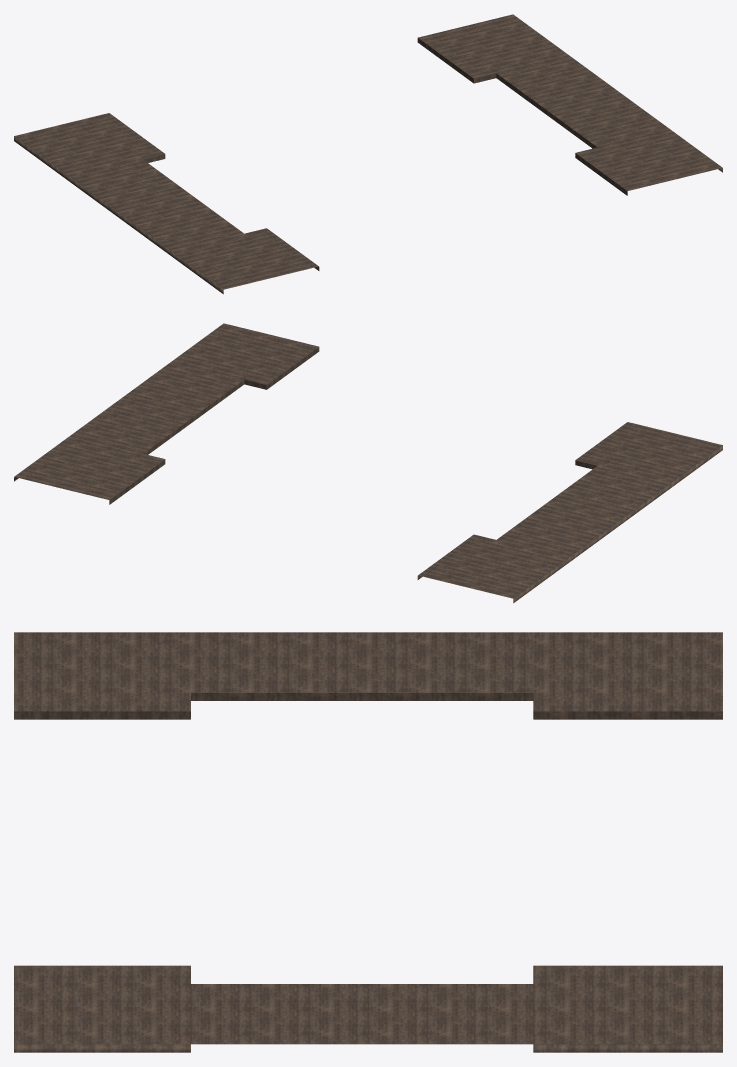
Rendered from SM_Wood_Ground_04.fbx.
3 views of the same model, one above another, from view 1: azimuth 30°, elevation 25°; view 2: azimuth 150°, elevation 25°; view 3: azimuth 270°, elevation 25° (orthographic). The views are drawn at different scales.
Parts seen in each view (by area): view 1: SM_Wood_Ground_04_LOD0; view 2: SM_Wood_Ground_04_LOD0; view 3: SM_Wood_Ground_04_LOD0.
Part boxes in pixels (bbox=[...]): SM_Wood_Ground_04_LOD0: bbox=[14, 14, 722, 294]; SM_Wood_Ground_04_LOD0: bbox=[14, 323, 722, 603]; SM_Wood_Ground_04_LOD0: bbox=[14, 632, 722, 1052].
Size of the model in its own units: 3260 by 2373 by 30.8.
